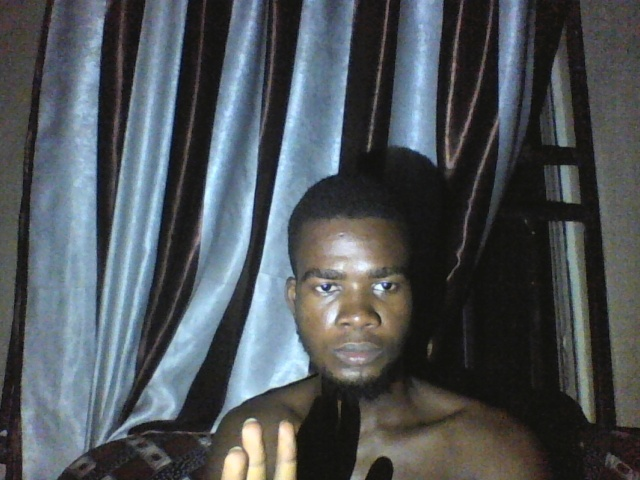hello: (220, 417, 317, 480)
